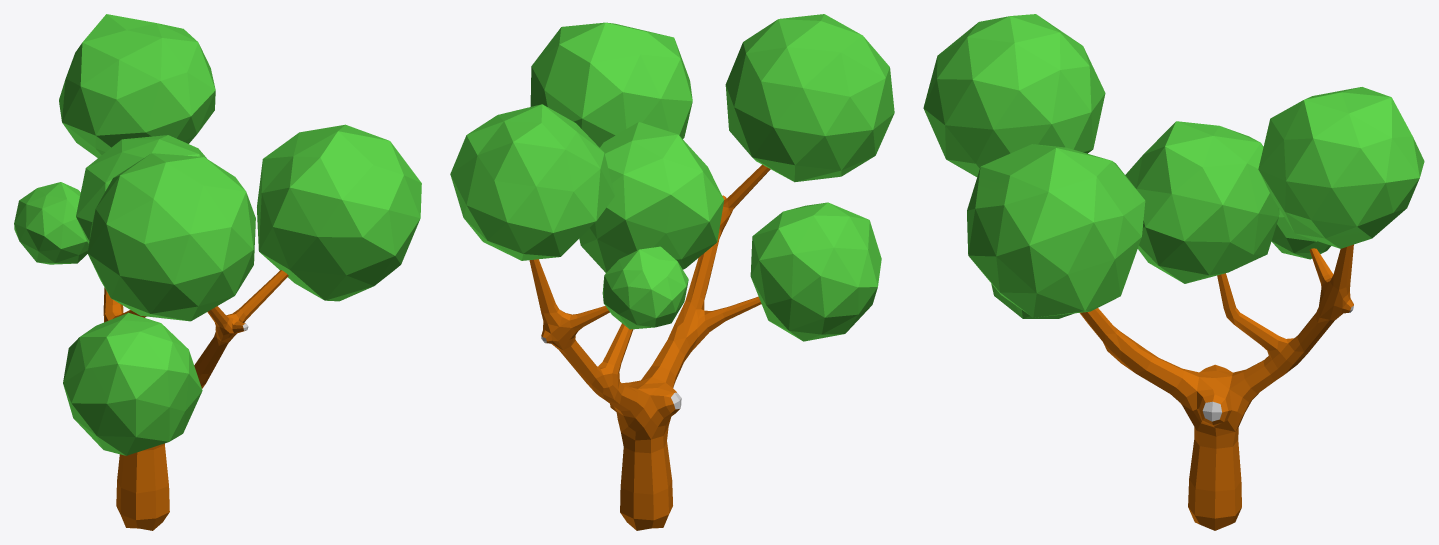
File: Tree03.fbx
3 renders of one model, left to right at view 1: azimuth 30°, elevation 25°; view 2: azimuth 150°, elevation 25°; view 3: azimuth 270°, elevation 25°, orthographic. The views are drawn at different scales.
Visible parts, largest first — view 1: Plane; view 2: Plane; view 3: Plane.
Boxes of the visible parts, bbox=[...] form: Plane: bbox=[14, 14, 421, 530]; Plane: bbox=[450, 14, 894, 530]; Plane: bbox=[923, 14, 1424, 530].
Bounding box in the file's own units: 452 × 579 × 557.
